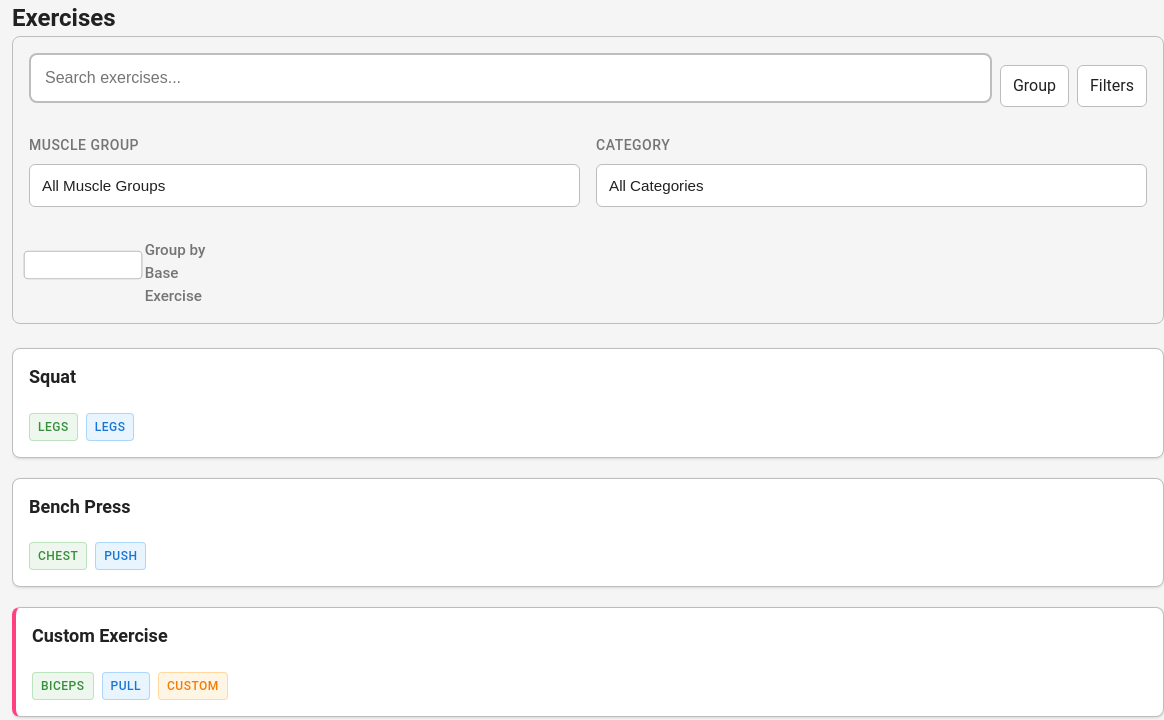
Scenario: ExerciseList › filters exercises by muscle group
This screenshot has width=1164, height=720.
Select "Chest" in the dropdown named "muscle" at (304, 186), box [29, 164, 580, 207]
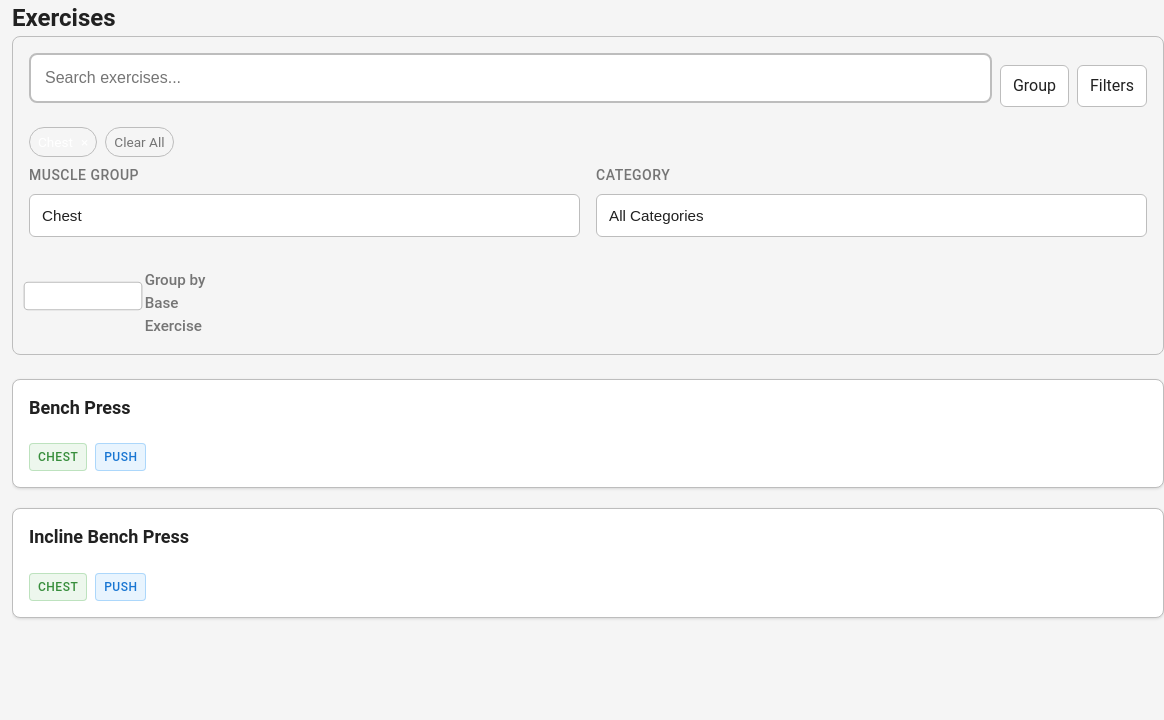
Expected: the heading "Bench Press" is shown, [29, 397, 130, 418]
Expected: the heading "Squat" is gone
